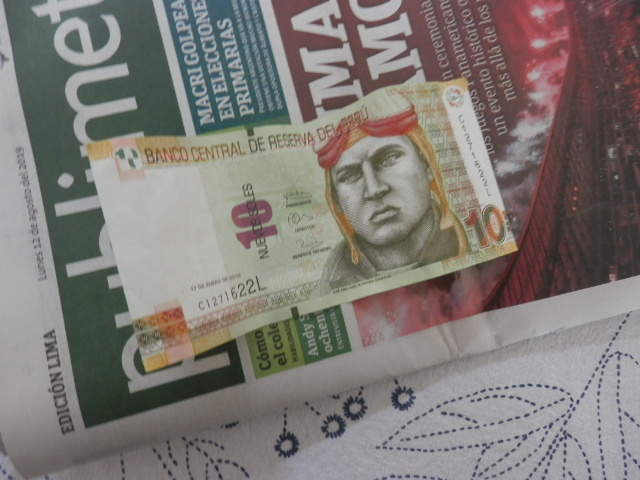B10: (53, 87, 569, 352)
